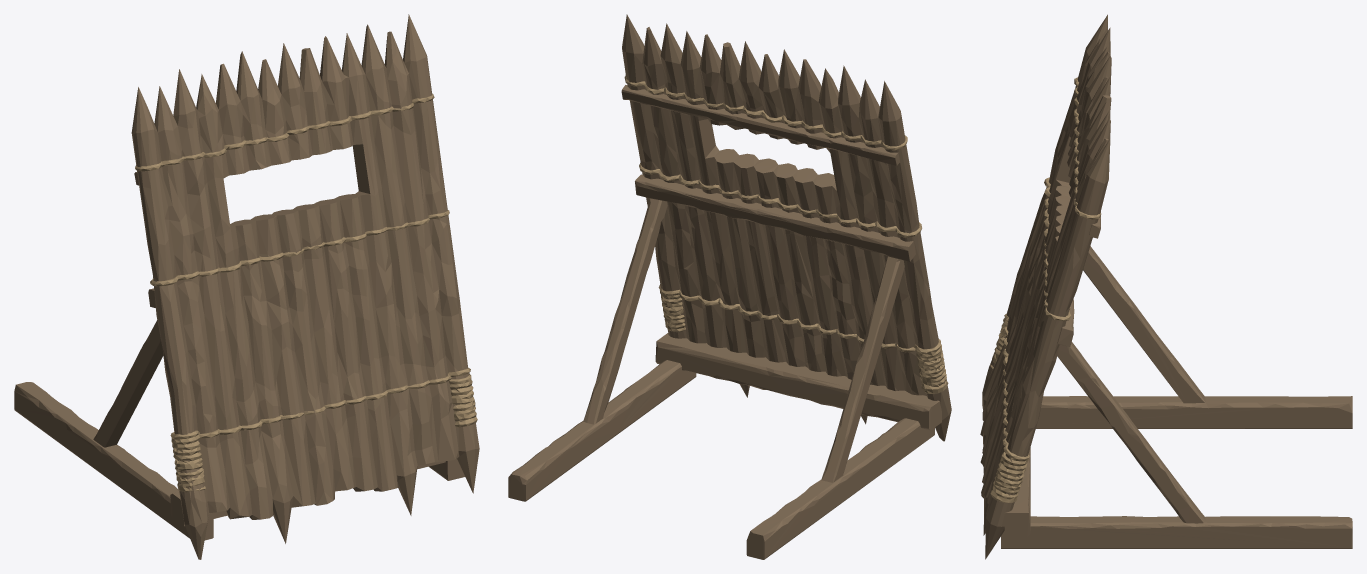
Rendered from siege_shield_b.FBX.
The picture shows the model from 3 angles, left to right: view 1: azimuth 30°, elevation 25°; view 2: azimuth 150°, elevation 25°; view 3: azimuth 270°, elevation 25°; orthographic projection. The views are drawn at different scales.
Visible parts, largest first — view 1: siege_shield_b; view 2: siege_shield_b; view 3: siege_shield_b.
Boxes of the visible parts, x1=… form: siege_shield_b: x1=14, y1=14, x2=479, y2=559; siege_shield_b: x1=508, y1=14, x2=951, y2=559; siege_shield_b: x1=980, y1=14, x2=1352, y2=559.
Size of the model in its own units: 1.8 by 2.58 by 2.01.
